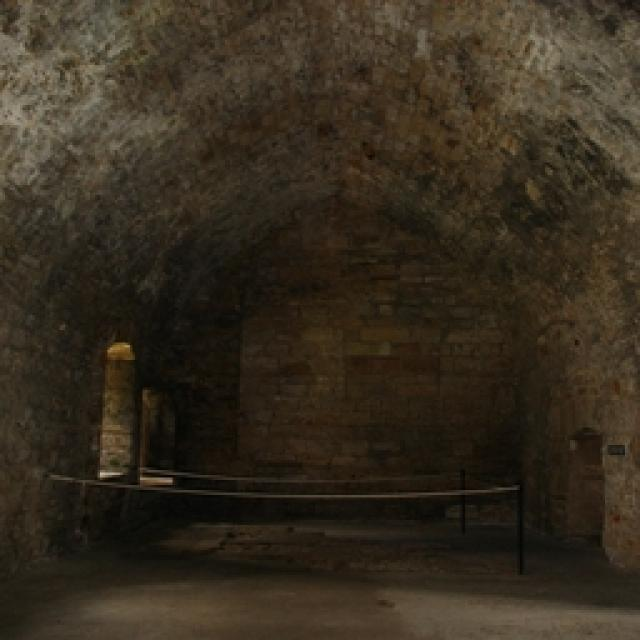Abbey: (89, 179, 596, 544)
